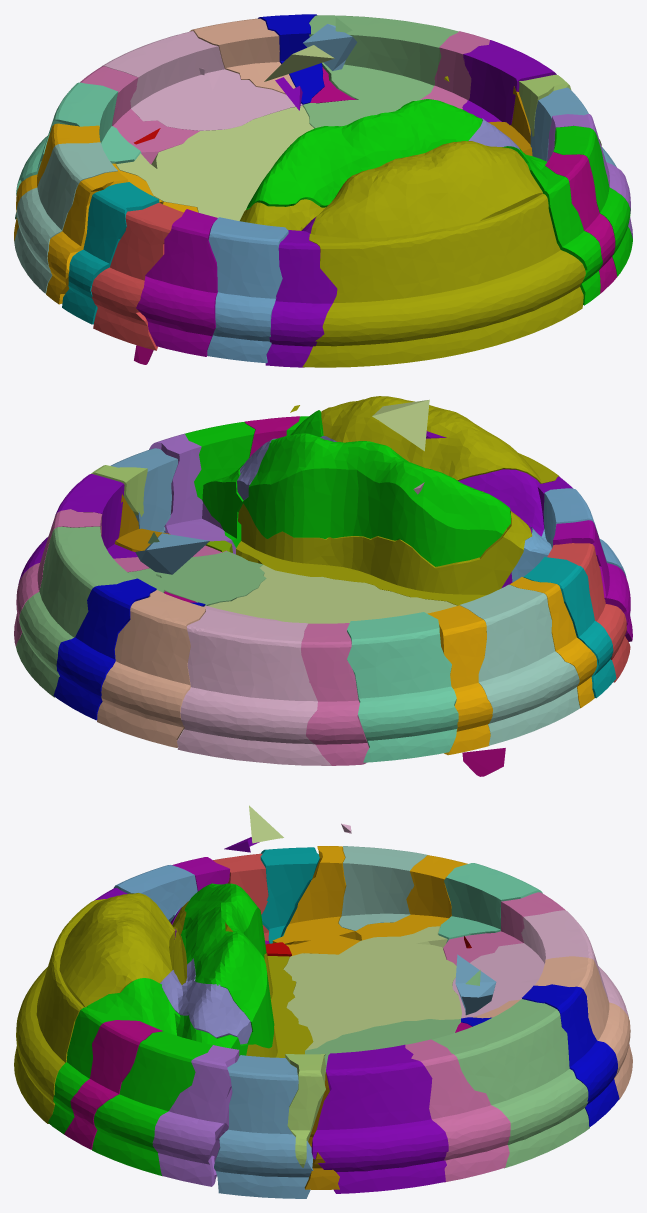
File: fractured_52_48pcs.glb
3 views of the same model, one above another, from view 1: azimuth 30°, elevation 25°; view 2: azimuth 150°, elevation 25°; view 3: azimuth 270°, elevation 25° (orthographic).
Visible parts, largest first — view 1: piece_13.obj, piece_9.obj, piece_5.obj, piece_7.obj, piece_3.obj, piece_26.obj, piece_14.obj, piece_1.obj, piece_18.obj, piece_4.obj, piece_0.obj, piece_15.obj (+15 smaller); view 2: piece_9.obj, piece_13.obj, piece_7.obj, piece_25.obj, piece_3.obj, piece_4.obj, piece_8.obj, piece_0.obj, piece_5.obj, piece_22.obj, piece_11.obj, piece_15.obj (+15 smaller); view 3: piece_9.obj, piece_13.obj, piece_3.obj, piece_20.obj, piece_5.obj, piece_2.obj, piece_0.obj, piece_24.obj, piece_27.obj, piece_7.obj, piece_4.obj, piece_11.obj (+13 smaller).
Boxes of the visible parts, bbox=[...] form: piece_13.obj: bbox=[240, 141, 585, 367]; piece_9.obj: bbox=[246, 99, 632, 305]; piece_5.obj: bbox=[116, 105, 313, 220]; piece_7.obj: bbox=[102, 31, 303, 130]; piece_3.obj: bbox=[303, 15, 458, 128]; piece_26.obj: bbox=[207, 217, 288, 363]; piece_14.obj: bbox=[136, 209, 217, 356]; piece_1.obj: bbox=[91, 202, 183, 350]; piece_18.obj: bbox=[265, 216, 337, 367]; piece_4.obj: bbox=[14, 142, 117, 293]; piece_0.obj: bbox=[14, 123, 198, 304]; piece_15.obj: bbox=[62, 182, 159, 324]; piece_9.obj: bbox=[185, 410, 510, 566]; piece_13.obj: bbox=[236, 396, 559, 605]; piece_7.obj: bbox=[177, 605, 331, 765]; piece_25.obj: bbox=[347, 612, 458, 762]; piece_3.obj: bbox=[16, 526, 266, 697]; piece_4.obj: bbox=[459, 584, 579, 745]; piece_8.obj: bbox=[97, 590, 205, 747]; piece_0.obj: bbox=[427, 577, 596, 755]; piece_5.obj: bbox=[208, 565, 457, 623]; piece_22.obj: bbox=[301, 623, 368, 765]; piece_11.obj: bbox=[53, 578, 205, 720]; piece_15.obj: bbox=[523, 557, 616, 698]; piece_9.obj: bbox=[48, 883, 274, 1176]; piece_13.obj: bbox=[14, 893, 313, 1123]; piece_3.obj: bbox=[305, 999, 589, 1168]; piece_20.obj: bbox=[311, 1044, 448, 1193]; piece_5.obj: bbox=[283, 926, 461, 1050]; piece_2.obj: bbox=[214, 1055, 313, 1198]; piece_0.obj: bbox=[272, 846, 467, 956]; piece_24.obj: bbox=[405, 1039, 510, 1182]; piece_27.obj: bbox=[152, 1045, 239, 1186]; piece_7.obj: bbox=[452, 910, 629, 1045]; piece_4.obj: bbox=[338, 846, 428, 930]; piece_11.obj: bbox=[461, 984, 619, 1127].
Size of the model in its own units: 1 by 0.5699 by 1.
